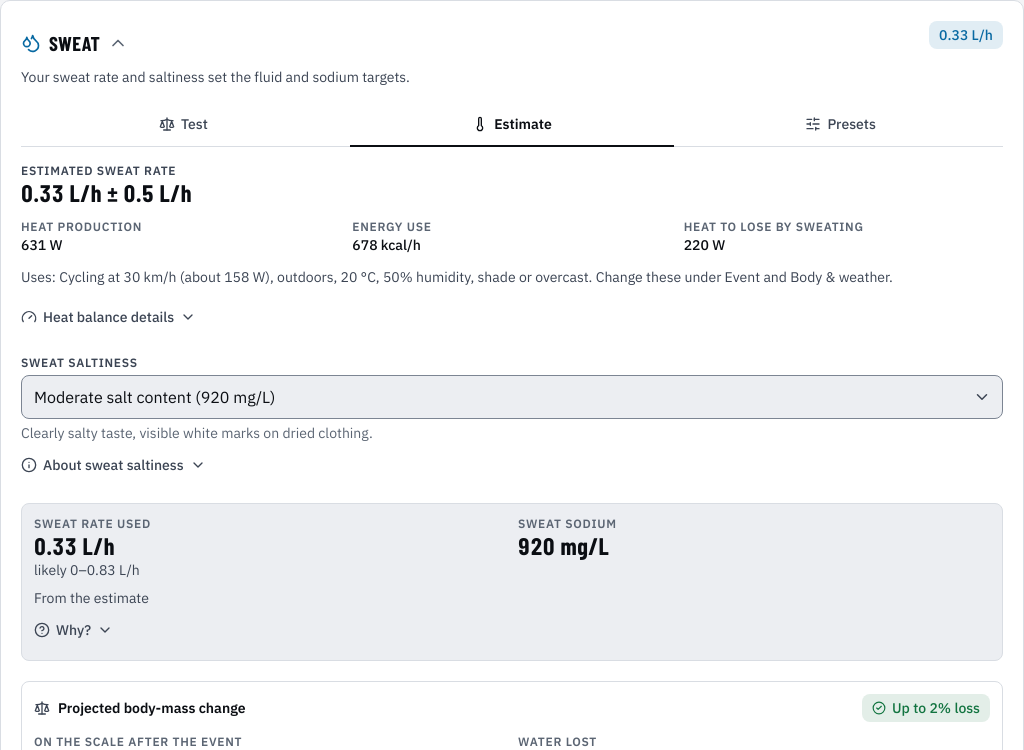
SweatSection › shows the heat balance details behind a disclosure
Click the button "Heat balance details". click: (109, 317)
box: [21,299,196,335]
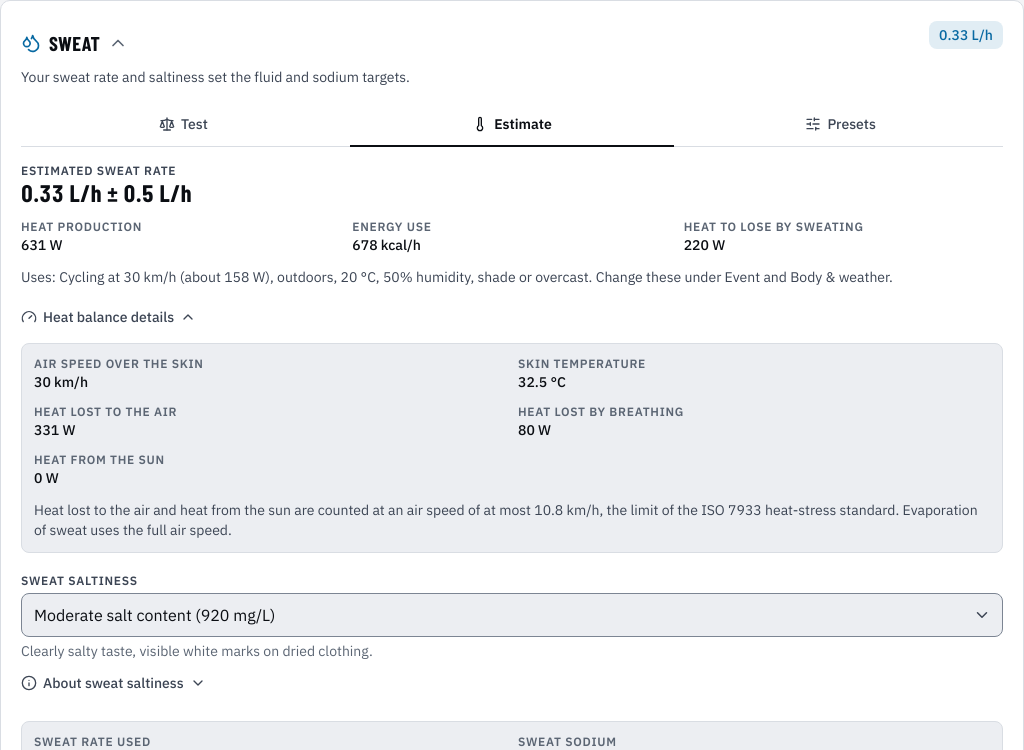
Now the text with test id "sweat-estimate-air" reads "30 km/h", box [34,373,88,391]
Now the text with test id "sweat-estimate-dry-air" shows "Heat lost to the air and heat from the sun are counted at an air speed of at most 10.8 km/h, the limit of the ISO 7933 heat-stress standard. Evaporation of swea", box [34,501,978,539]
Now the text "0 W" is shown, box [34,469,59,487]
